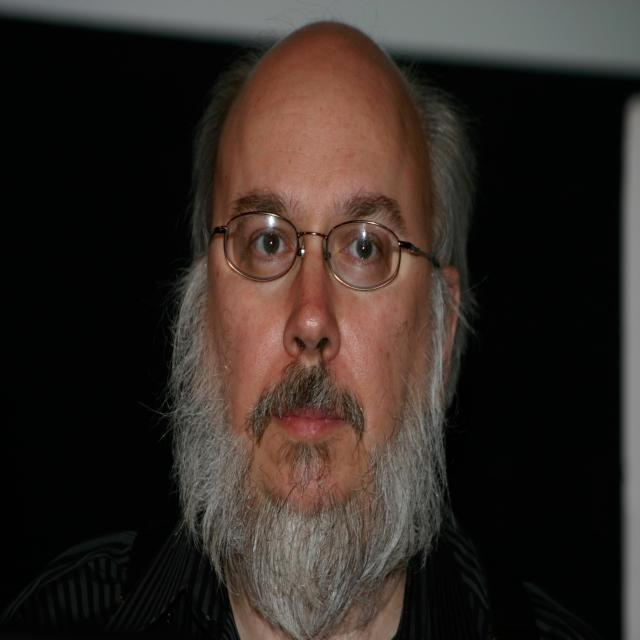no-glass: (248, 227, 378, 262)
